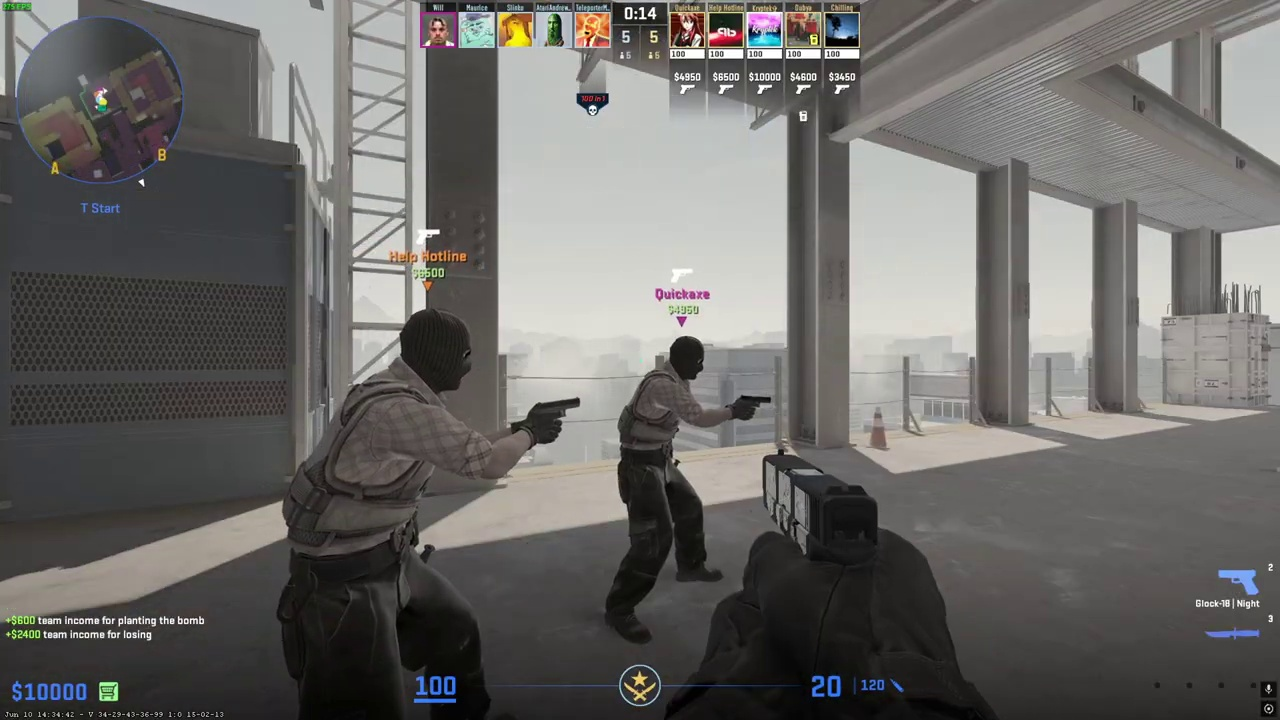Terrorist: (279, 310, 502, 720), (612, 335, 730, 642)
